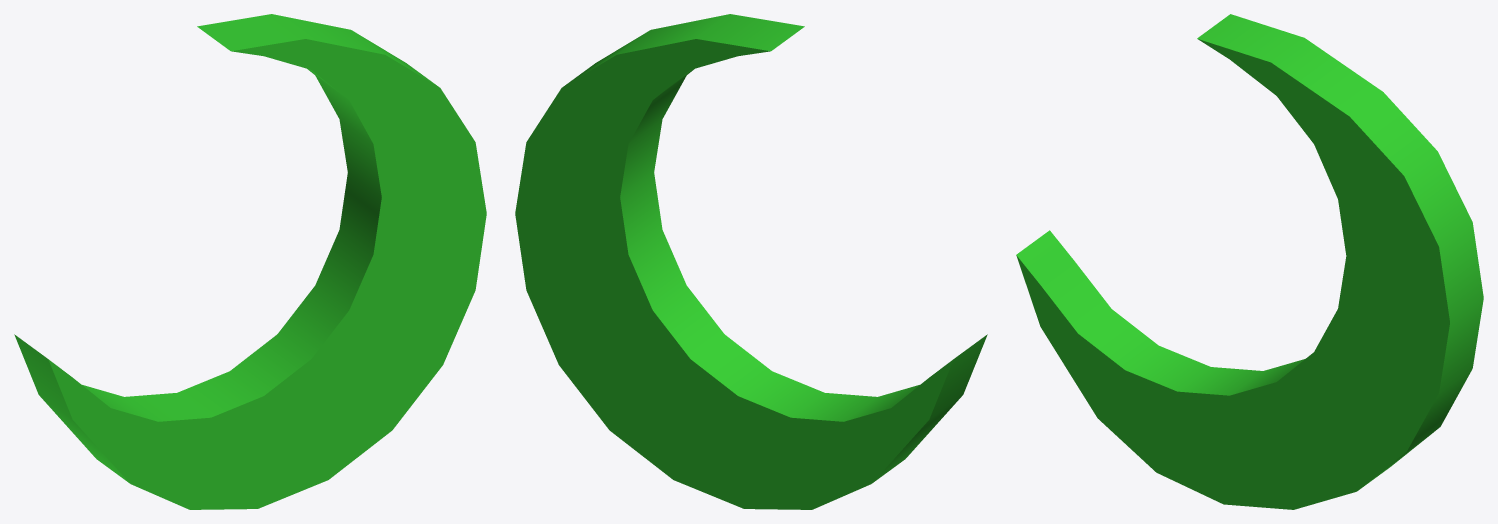
File: 05 moon.FBX
3 renders of one model, left to right at view 1: azimuth 30°, elevation 25°; view 2: azimuth 150°, elevation 25°; view 3: azimuth 330°, elevation 25°, orthographic.
Parts seen in each view (by area): view 1: SM_Icon_Weather_Moon_01; view 2: SM_Icon_Weather_Moon_01; view 3: SM_Icon_Weather_Moon_01.
Part boxes in pixels (box(x1,y1,x2,y2)): SM_Icon_Weather_Moon_01: box(14, 14, 486, 509); SM_Icon_Weather_Moon_01: box(515, 14, 987, 509); SM_Icon_Weather_Moon_01: box(1016, 14, 1483, 509).
Bounding box in the file's own units: 36.66 × 37.08 × 4.93.
